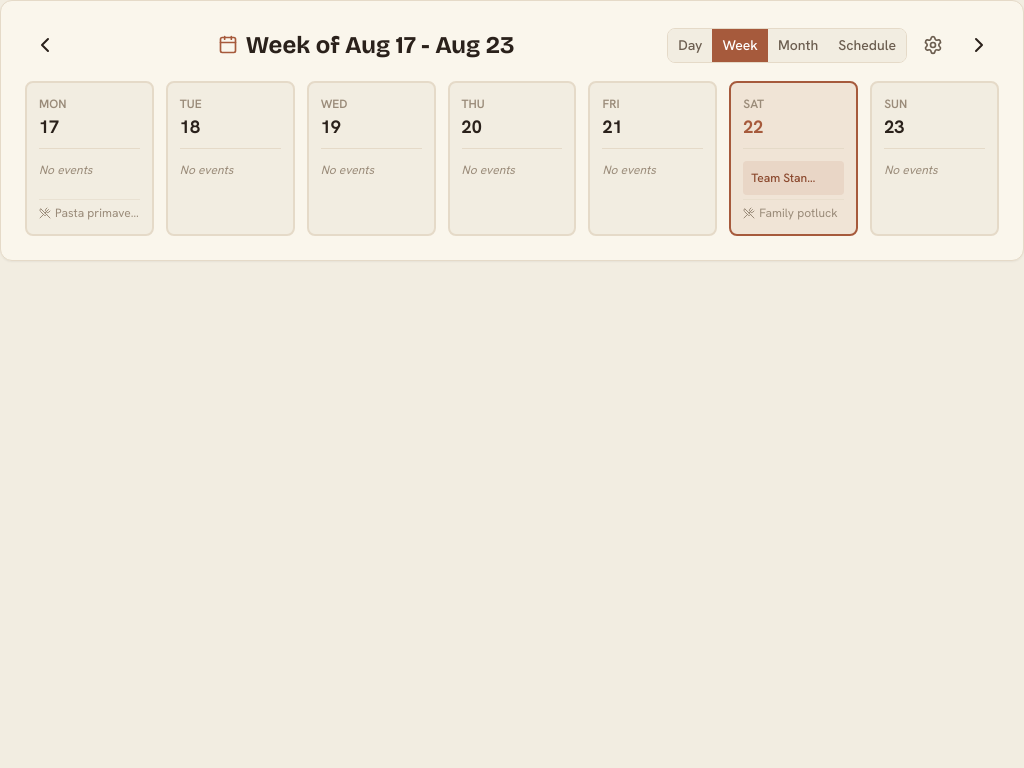
WeekCalendar — interactions › event detail modal › Hide on a recurring event opens the scope prompt instead of dismissing
Click the text "Team Standup" at (786, 178), box [751,169,820,187]
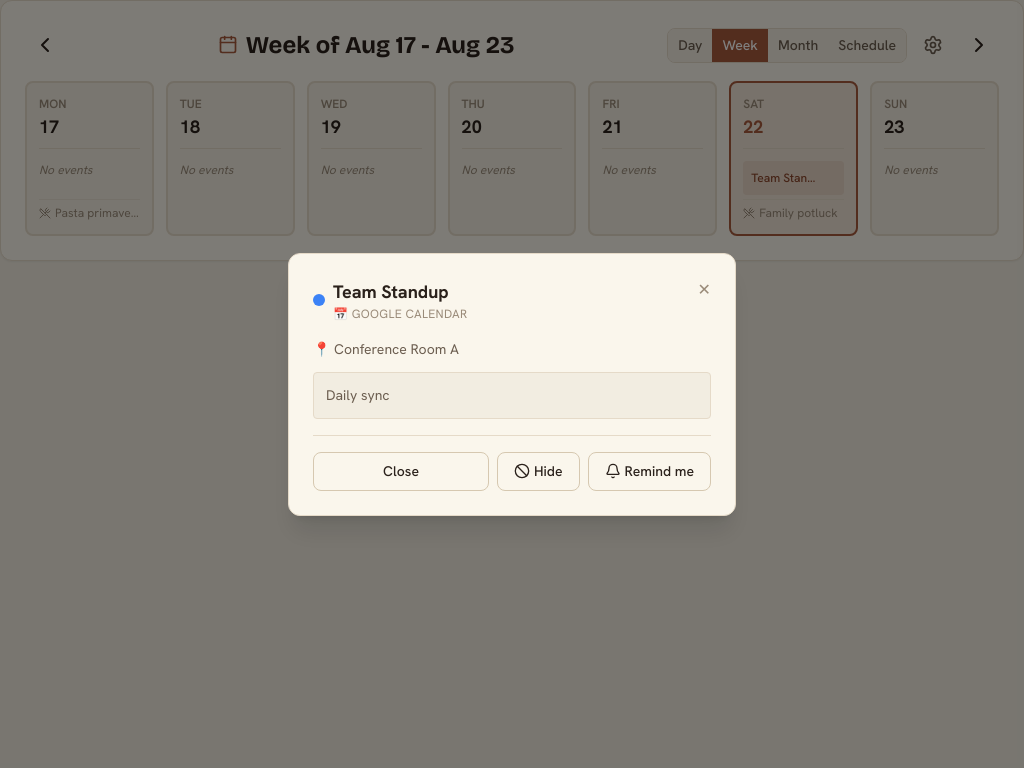
Click the button "Hide" at (538, 471), box [497,452,580,490]
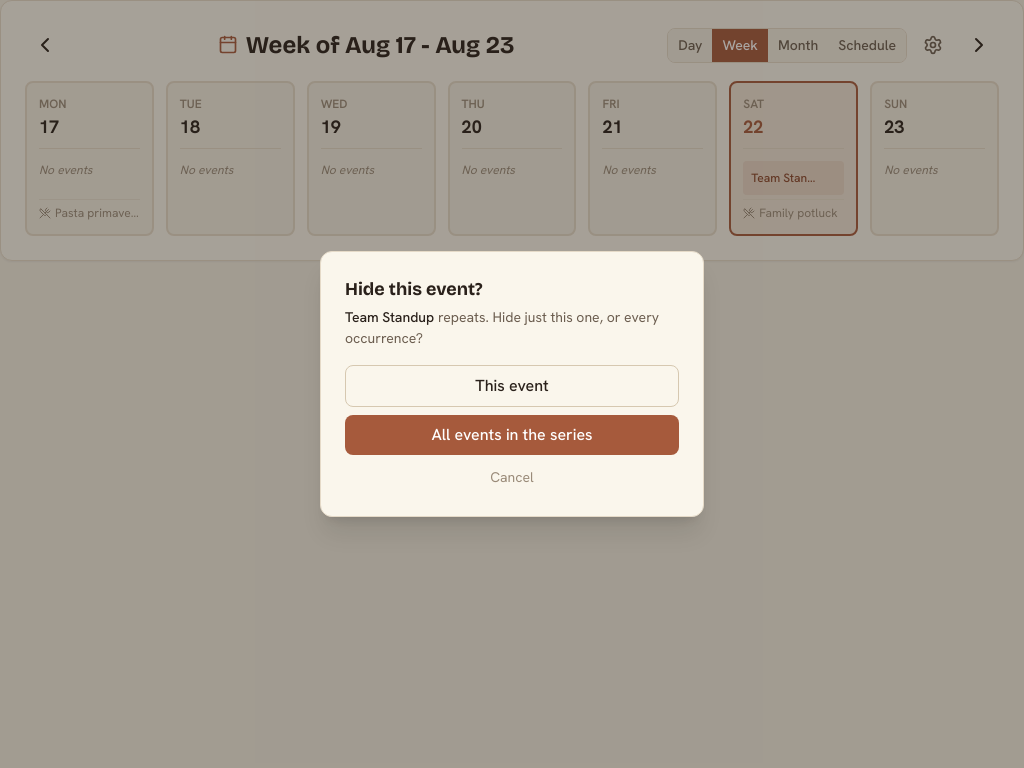
Check: the dialog named "hide recurring event" is shown
Check: the text "Conference Room A" is gone
